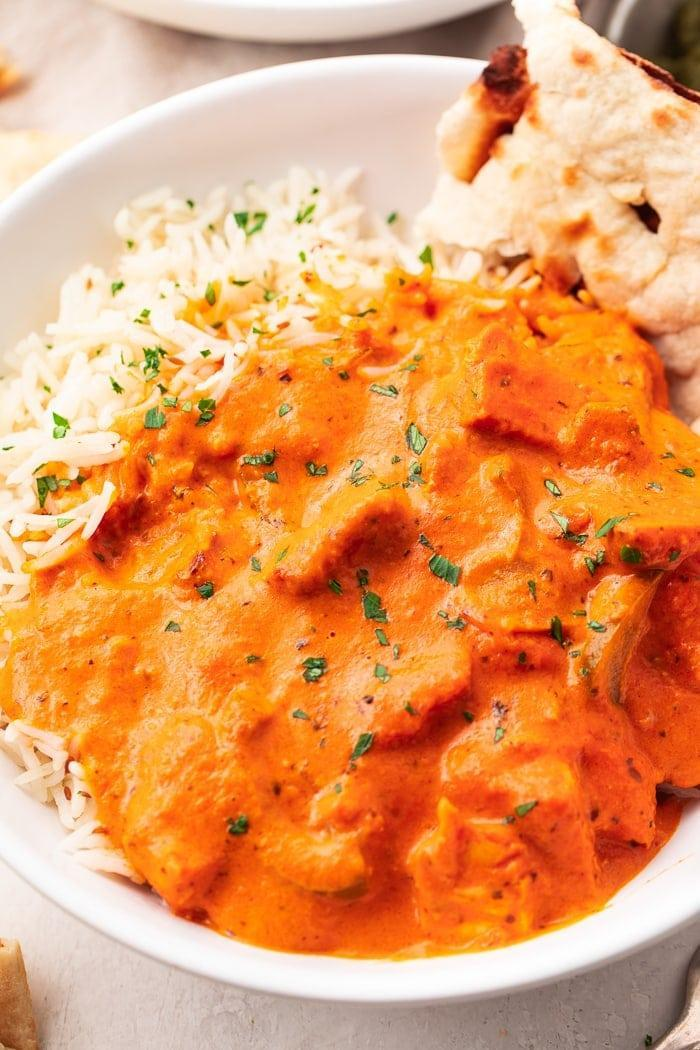chicken: (150, 325, 660, 950)
rice: (47, 185, 357, 342)
roti: (387, 28, 700, 309)
